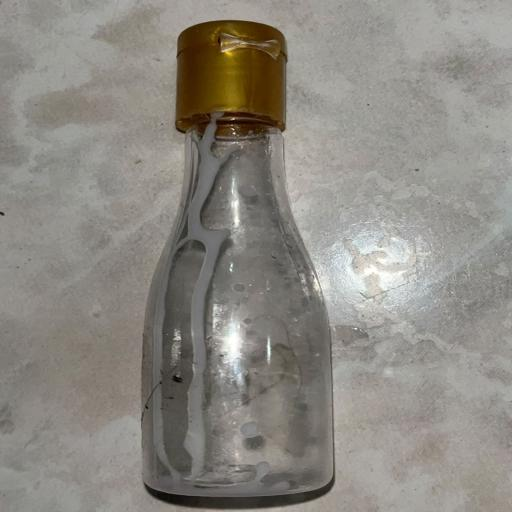PET: (100, 11, 409, 501)
